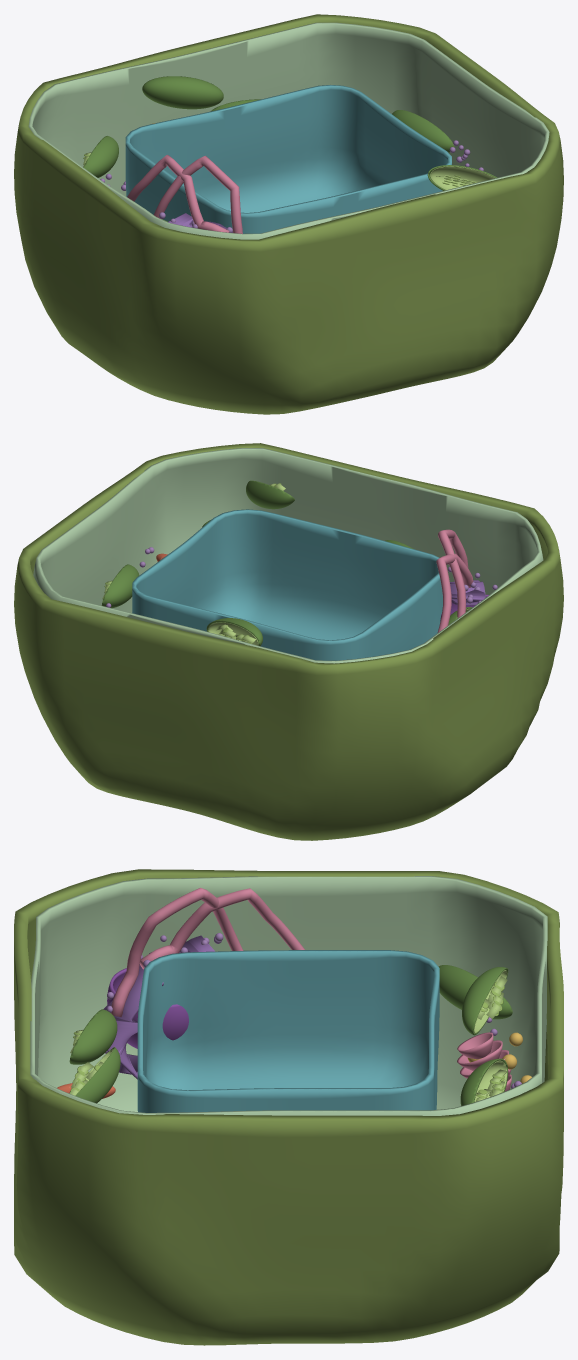
The model's file is plant-cell.glb.
3 renders of one model, top to bottom at view 1: azimuth 30°, elevation 25°; view 2: azimuth 150°, elevation 25°; view 3: azimuth 270°, elevation 25°, orthographic. The views are drawn at different scales.
Parts seen in each view (by area): view 1: wall, membrane, vacuole, chloroplast.001, er; view 2: wall, membrane, vacuole, chloroplast.001, er; view 3: wall, membrane, vacuole, chloroplast.001, er, golgi_copy, nucleus.
Part boxes in pixels (box(x1,y1,x2,y2)): wall: box(14, 14, 563, 414); membrane: box(28, 22, 549, 239); vacuole: box(125, 85, 451, 233); chloroplast.001: box(83, 76, 497, 221); er: box(127, 155, 242, 233); wall: box(14, 443, 563, 840); membrane: box(33, 448, 543, 663); vacuole: box(132, 509, 442, 660); chloroplast.001: box(101, 480, 472, 646); er: box(436, 529, 485, 632); wall: box(14, 869, 563, 1345); membrane: box(30, 876, 547, 1115); vacuole: box(137, 950, 439, 1112); chloroplast.001: box(69, 965, 512, 1105); er: box(103, 888, 304, 1079); golgi_copy: box(457, 1032, 531, 1091); nucleus: box(107, 968, 188, 1048).
Bounding box in the file's own units: 5.79 × 2.97 × 5.34.
